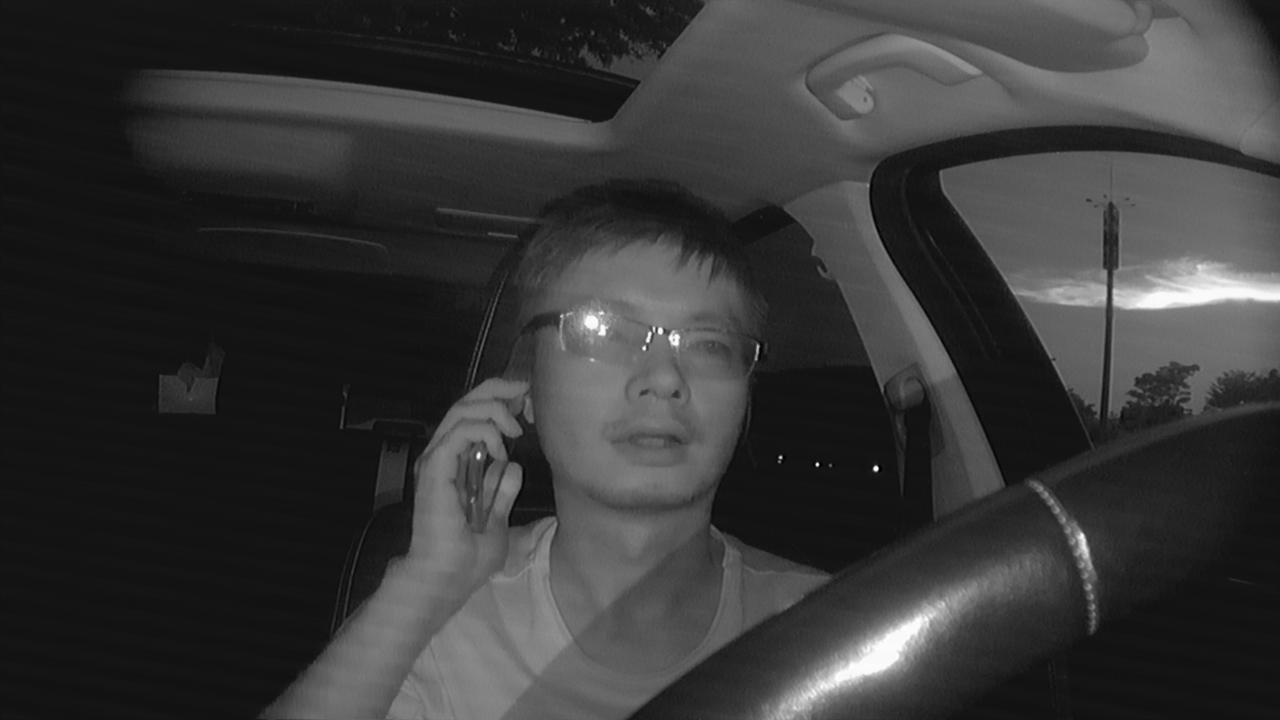hand: (408, 371, 528, 559)
